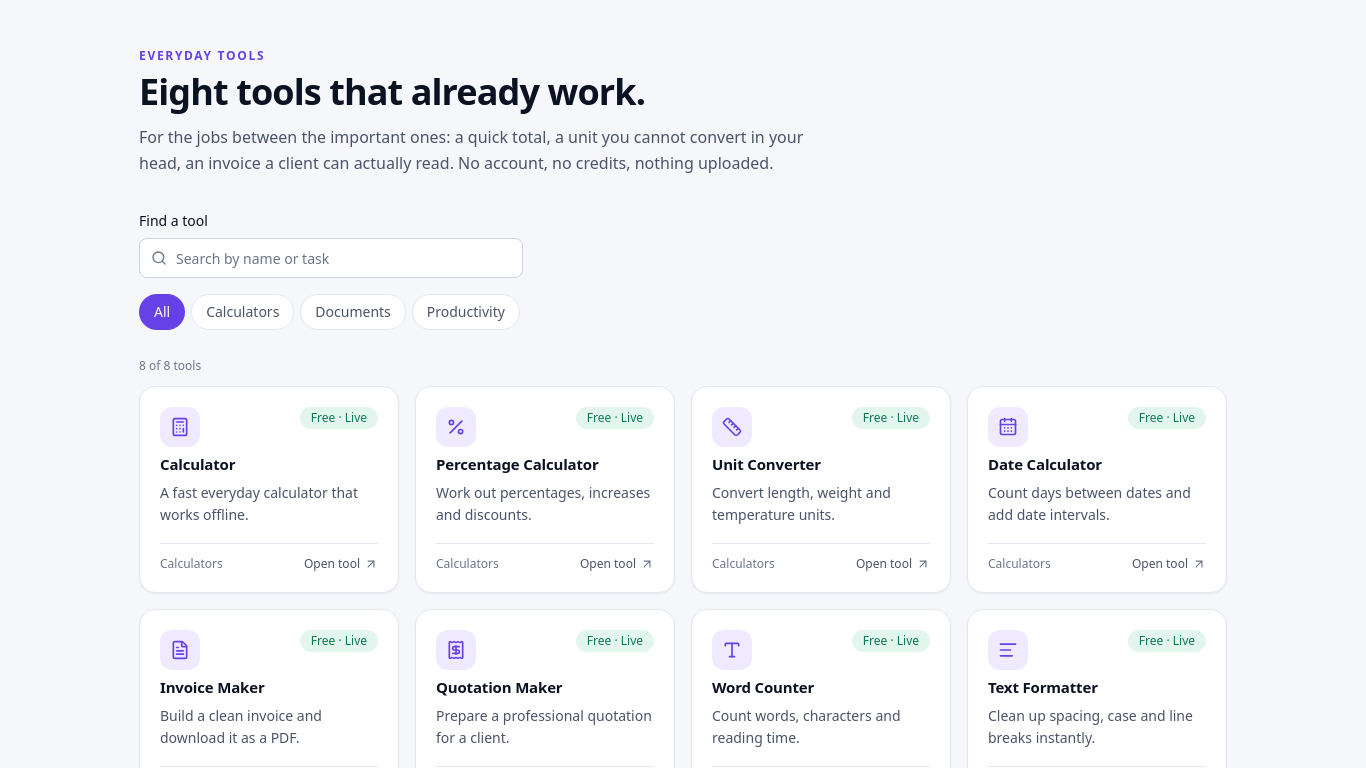
ToolsPage › filters by search text
Type "invoice" into the search field labelled "Find a tool" at coordinates (331, 258), box [139,238,523,278]
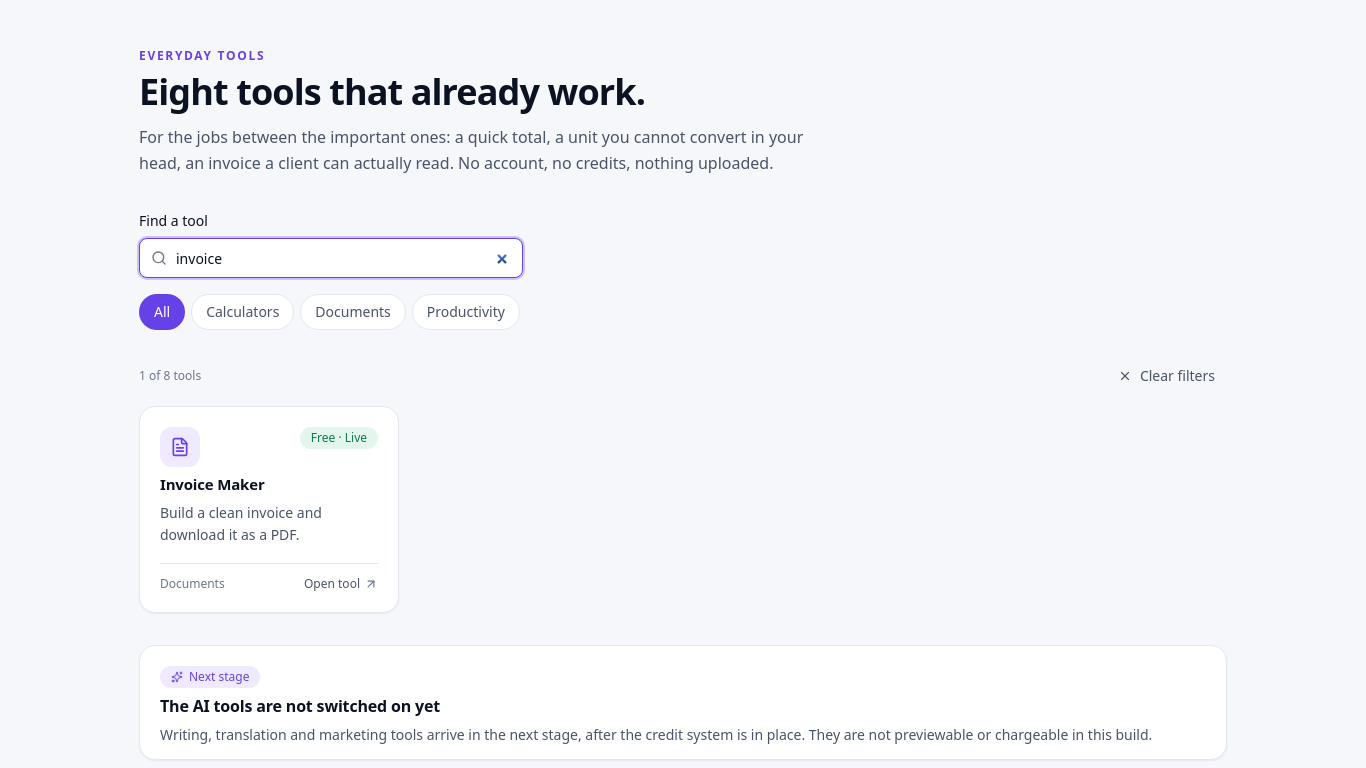
Expected: the heading "Invoice Maker" is shown, [160,474,265,494]
Expected: the text "1 of 8 tools" is shown, [139,368,201,384]
Expected: the link "Unit Converter" is gone
